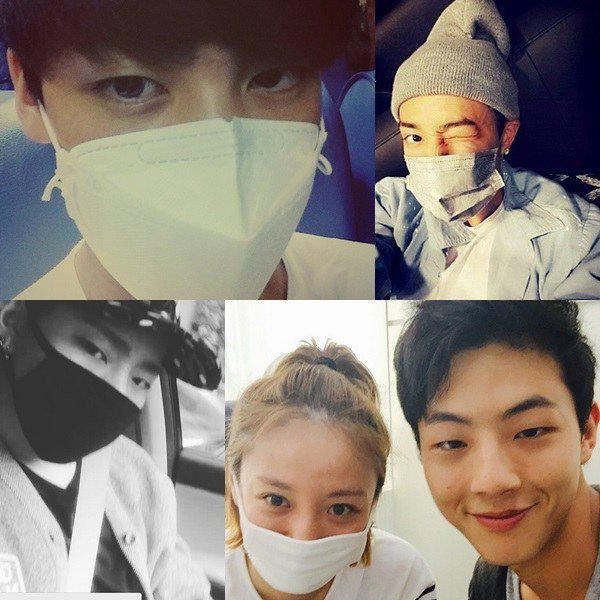NONE: (419, 395, 573, 555)
OK: (46, 25, 320, 299), (28, 322, 182, 476), (396, 110, 503, 218)
WRONG: (228, 437, 382, 591)
